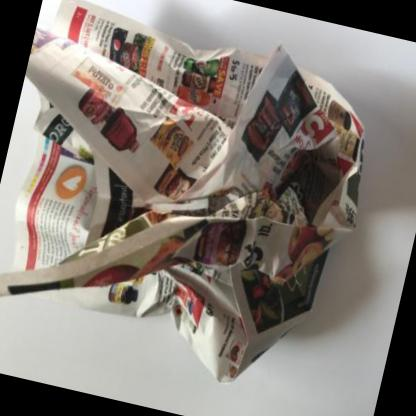Paper: (0, 0, 365, 383)
